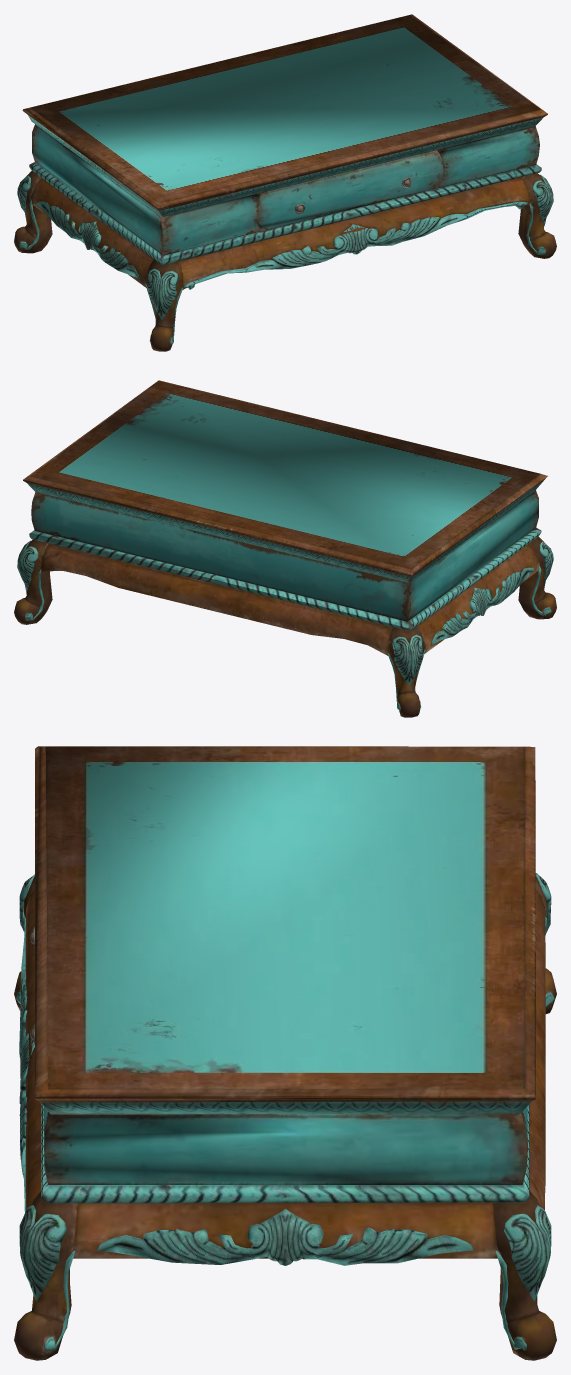
File: coffee-table.glb
The picture shows the model from 3 angles, top to bottom: view 1: azimuth 30°, elevation 25°; view 2: azimuth 150°, elevation 25°; view 3: azimuth 270°, elevation 25°; orthographic projection. The views are drawn at different scales.
Parts seen in each view (by area): view 1: CoffeeTable_01; view 2: CoffeeTable_01; view 3: CoffeeTable_01.
Boxes of the visible parts, x1,y1,x2,y2 form: CoffeeTable_01: [14, 14, 556, 351]; CoffeeTable_01: [14, 380, 556, 717]; CoffeeTable_01: [14, 746, 556, 1360].
Size of the model in its own units: 1.54 by 0.5212 by 0.9728.
Materials: 1 (1 with a texture image).
